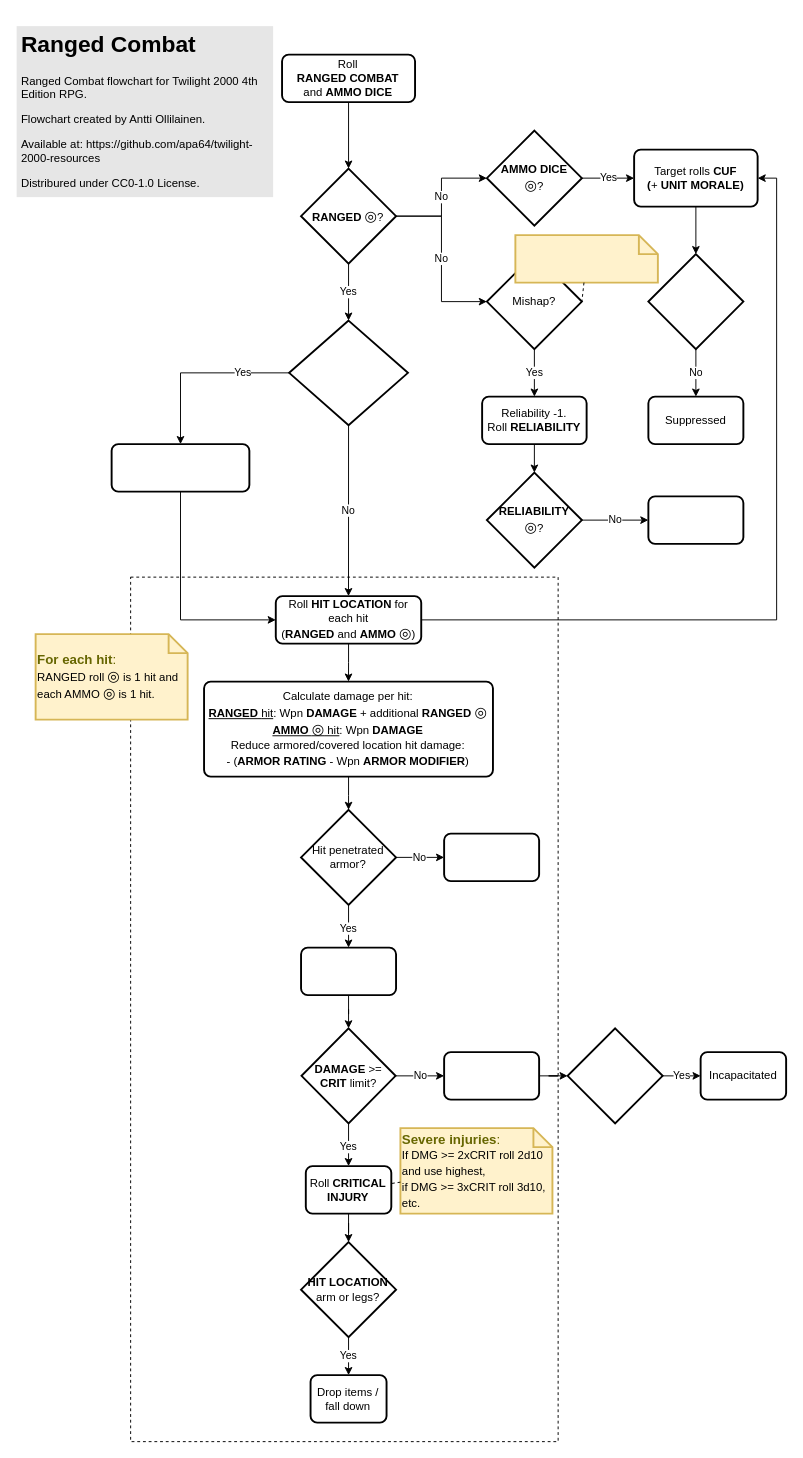
Some shapes in this 803 by 1458 pixel diagram are drawn without their labels. Here are the shapes that lost their labels. From the top down, the box of each, then its label:
(514, 234, 658, 283): Mishap is two 1s with RANGED and AMMO.
(647, 253, 744, 350): CUF (+MORALE) ◎ ?
(288, 319, 408, 426): AMMO DICE > remaining ammo?
(110, 443, 250, 492): Remove ammo dice until AMMO DICE <= ammo
(647, 495, 744, 544): Jam
(443, 832, 540, 882): Hit does no damage
(300, 946, 397, 996): Decrease armor's ARMOR RATING -1
(443, 1051, 540, 1100): Take damage
(566, 1027, 663, 1124): Total character damage >= hit capa?
